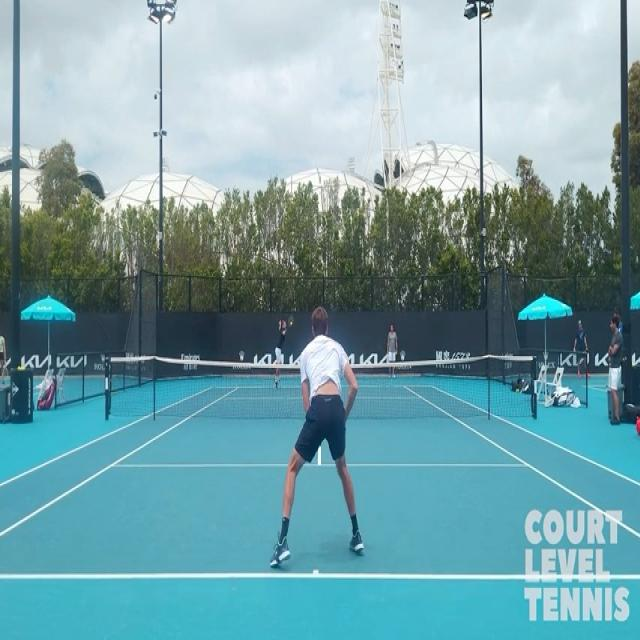ready-position: (274, 310, 373, 571)
